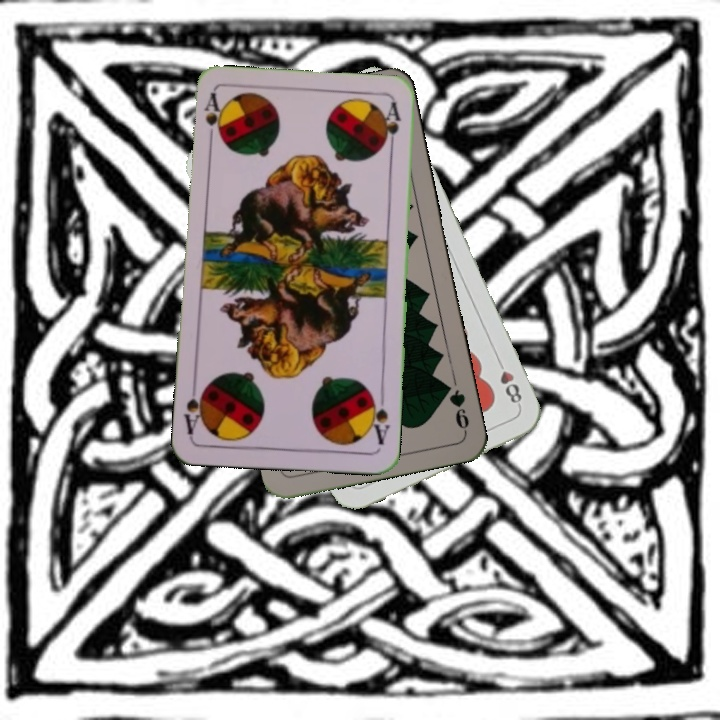G9: (439, 379, 472, 435)
H8: (492, 354, 525, 410)
SA: (365, 389, 393, 448), (200, 90, 224, 149)
